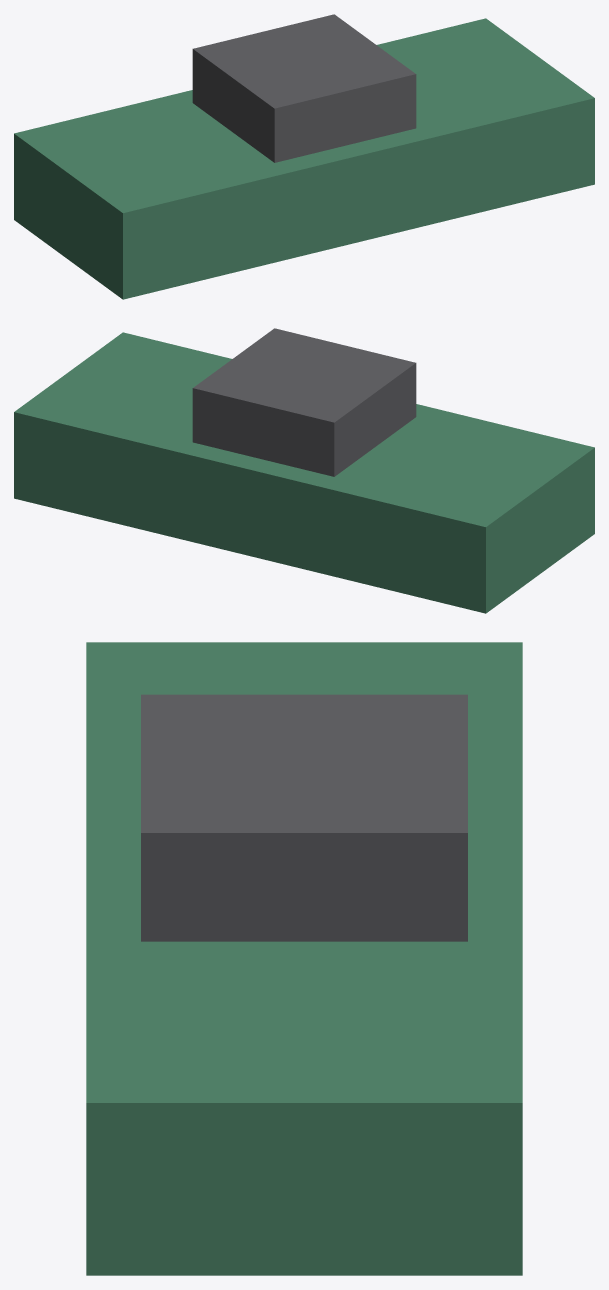
3 renders of one model, top to bottom at view 1: azimuth 30°, elevation 25°; view 2: azimuth 150°, elevation 25°; view 3: azimuth 270°, elevation 25°, orthographic. The views are drawn at different scales.
Parts seen in each view (by area): view 1: ch340c-pcb, ch340c-ic; view 2: ch340c-pcb, ch340c-ic; view 3: ch340c-pcb, ch340c-ic.
Boxes of the visible parts, x1,y1,x2,y2 form: ch340c-pcb: (14, 18, 594, 299); ch340c-ic: (192, 14, 416, 162); ch340c-pcb: (14, 332, 594, 613); ch340c-ic: (192, 328, 416, 476); ch340c-pcb: (86, 642, 522, 1275); ch340c-ic: (141, 694, 467, 941).
Bounding box in the file's own units: 0.01 × 0.00285 × 0.004.
